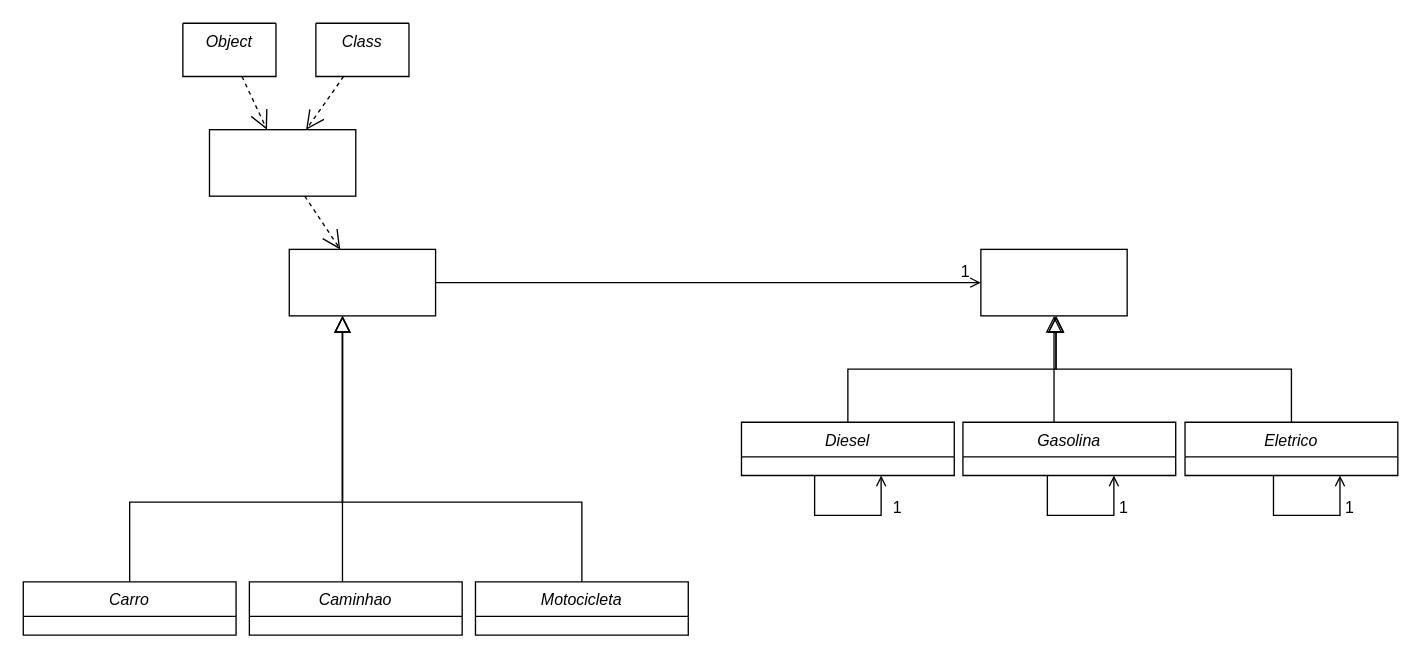
Some shapes in this 1422 by 658 pixel diagram are drawn without their labels. Here are the shapes that lost their labels. From the top down, the centre of each, then its label:
At point (282, 162): "VeiculoFactory".
At point (362, 282): "«abstrato» Veiculo".
At point (1053, 282): "«interface» Combustivel".
